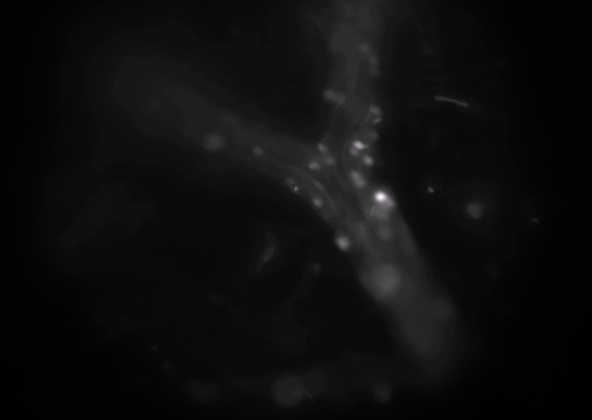cell: (374, 189, 388, 203), (352, 138, 366, 152), (368, 105, 382, 119), (347, 144, 361, 158), (362, 154, 376, 168), (314, 139, 328, 153), (308, 158, 322, 172), (324, 153, 338, 167), (323, 88, 337, 102), (348, 169, 362, 183), (333, 92, 347, 106), (353, 176, 367, 190), (335, 235, 349, 249), (382, 272, 396, 286), (382, 227, 396, 241), (383, 198, 397, 212), (378, 207, 392, 221), (378, 201, 392, 215), (311, 195, 325, 209), (284, 174, 298, 188), (254, 145, 268, 159), (207, 134, 221, 148), (358, 43, 372, 57), (366, 54, 380, 68), (333, 38, 347, 52), (367, 128, 381, 142)
